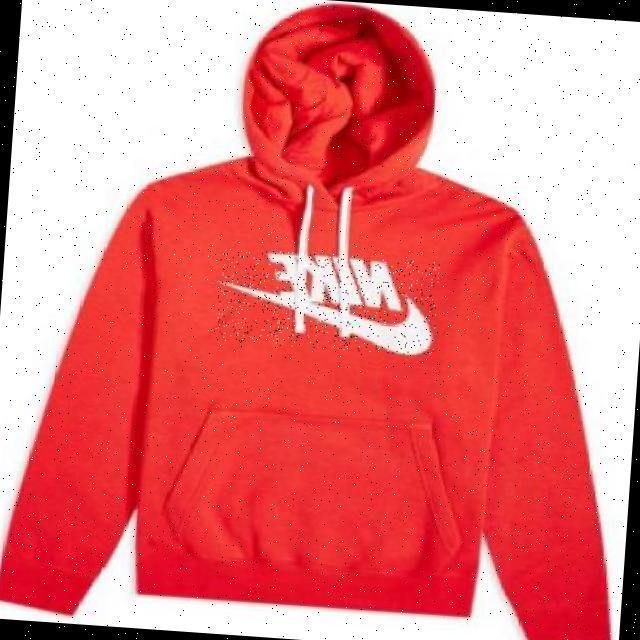Nike: (215, 247, 440, 356)
